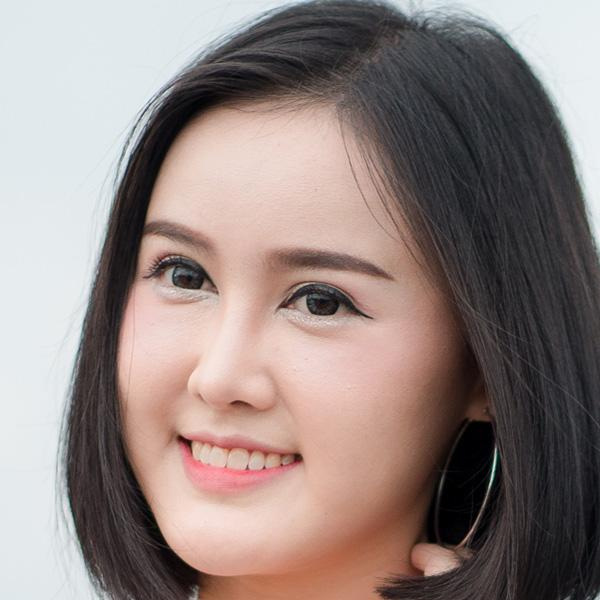Eyes: (266, 267, 378, 333), (142, 246, 224, 308)
